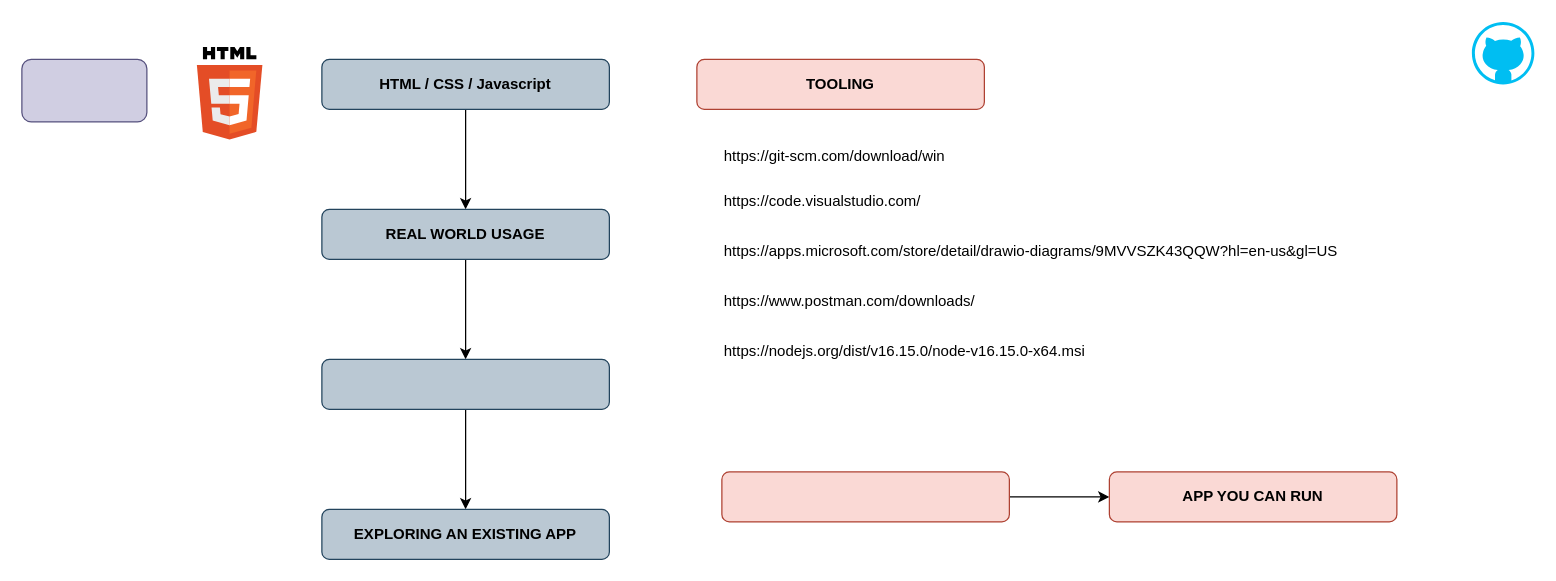
This 1556x581 diagram has some shape labels left out. The centre of each missing label's shape, as x and y in pixels:
FOUNDATION: the point at 865,496
HTML version 4: the point at 84,90
SIMPLE HTML APP: the point at 465,383
